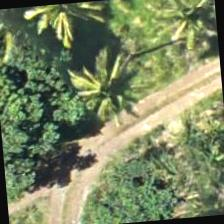Kelapa_Sawit: (48, 35, 146, 133), (143, 0, 221, 75), (7, 0, 102, 58)
